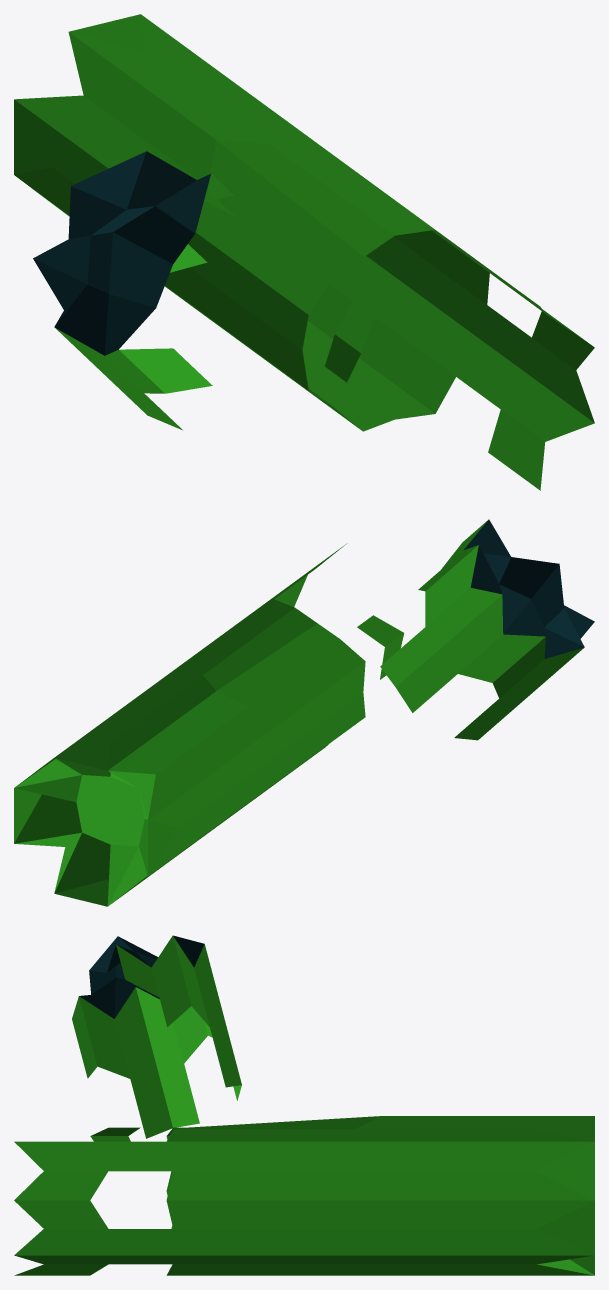
The model's file is archerytower2d.obj.
3 views of the same model, one above another, from view 1: azimuth 30°, elevation 25°; view 2: azimuth 150°, elevation 25°; view 3: azimuth 270°, elevation 25° (orthographic). The views are drawn at different scales.
Visible parts, largest first — view 1: Cube, Cube.002, Cube.001; view 2: Cube, Cube.002, Cube.001; view 3: Cube, Cube.002, Cube.001.
Part boxes in pixels (bbox=[...]): Cube: bbox=[14, 14, 489, 431]; Cube.002: bbox=[33, 151, 235, 430]; Cube.001: bbox=[324, 231, 594, 490]; Cube: bbox=[14, 598, 365, 906]; Cube.002: bbox=[380, 519, 594, 740]; Cube.001: bbox=[272, 543, 404, 679]; Cube: bbox=[166, 1116, 594, 1275]; Cube.002: bbox=[72, 935, 241, 1138]; Cube.001: bbox=[14, 1127, 172, 1275].
Bounding box in the file's own units: 0.9505 × 0.6519 × 1.43.
